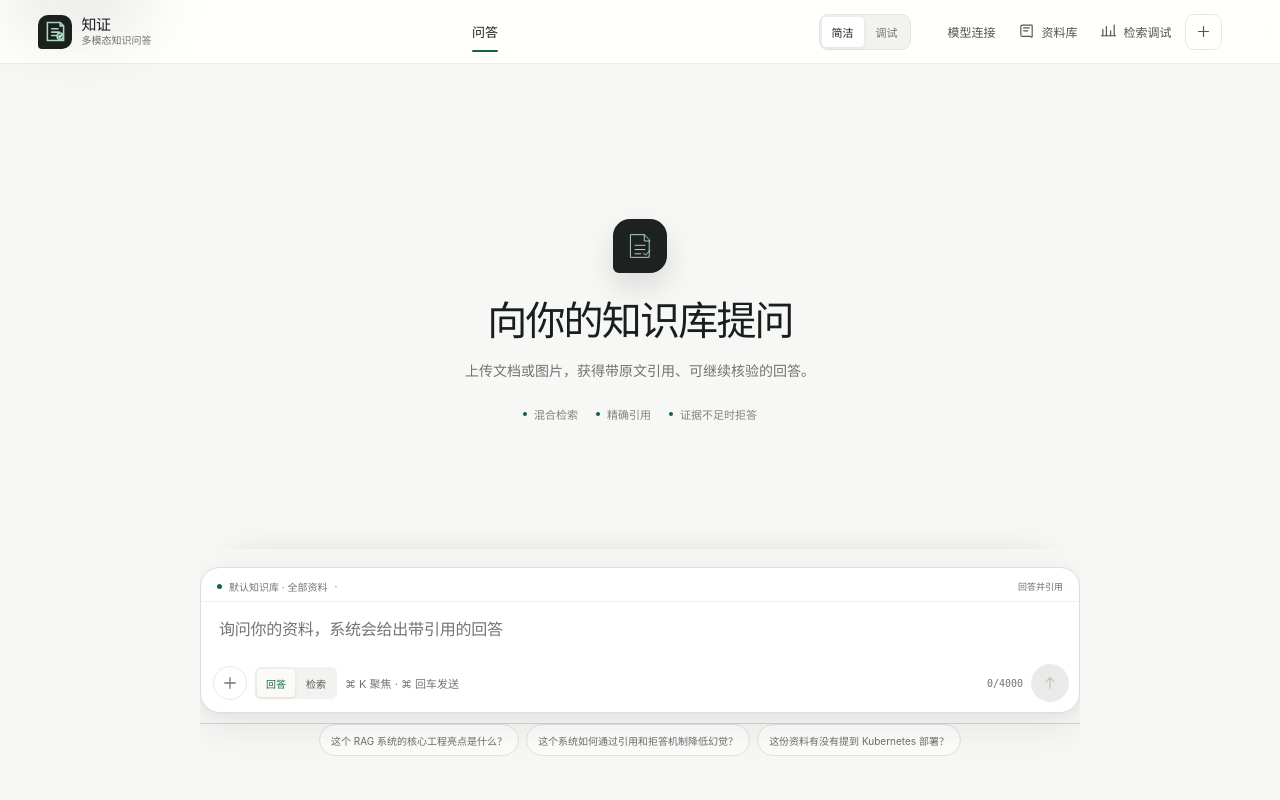
it: WorkbenchPage workflows › disables execution and explains invalid expert parameters
This screenshot has width=1280, height=800.
Click the button with test id "mode-expert": (887,32) [866,16,908,46]
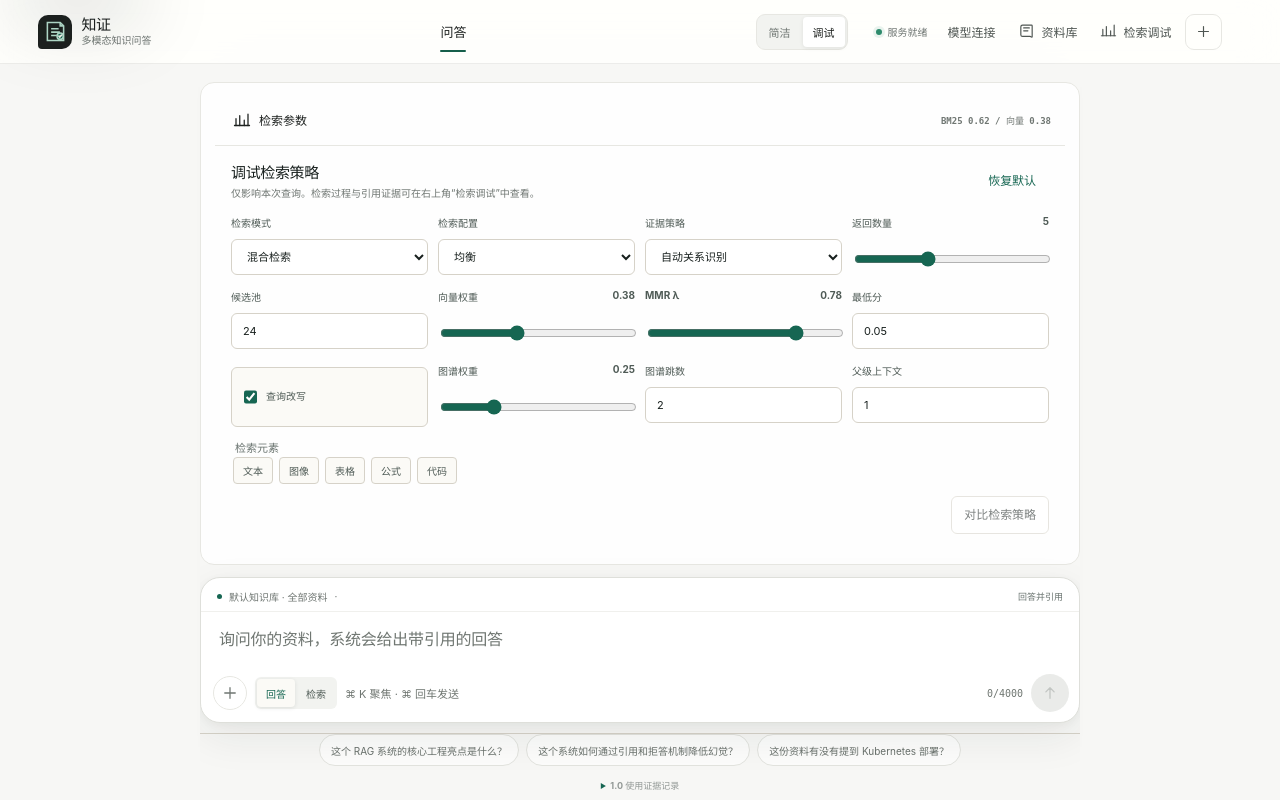
Clear the number field named "candidate-k": (330,331) [231,313,428,349]
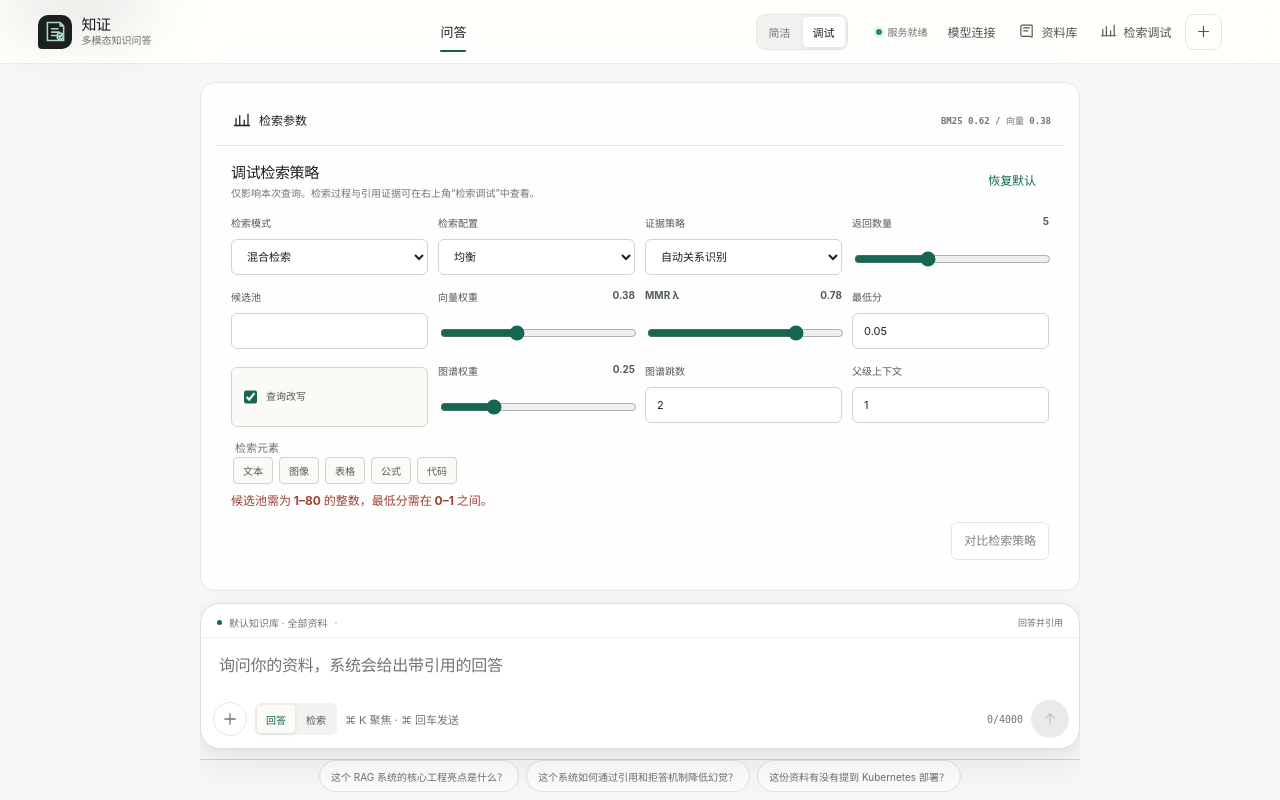
Expected: the button with test id "run-query" is disabled, [1031,700,1069,738]
Result: the message "候选池需为 1–80 的整数，最低分需在 0–1 之间。" is shown at [231,493,493,508]
